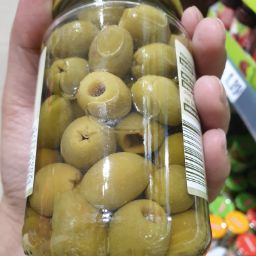Olives: (16, 9, 226, 256), (49, 27, 187, 252), (46, 95, 182, 202), (44, 28, 176, 95), (43, 161, 131, 256), (55, 105, 120, 174), (74, 73, 134, 118), (38, 160, 84, 217), (90, 24, 134, 80), (122, 114, 171, 160), (49, 60, 92, 97)
